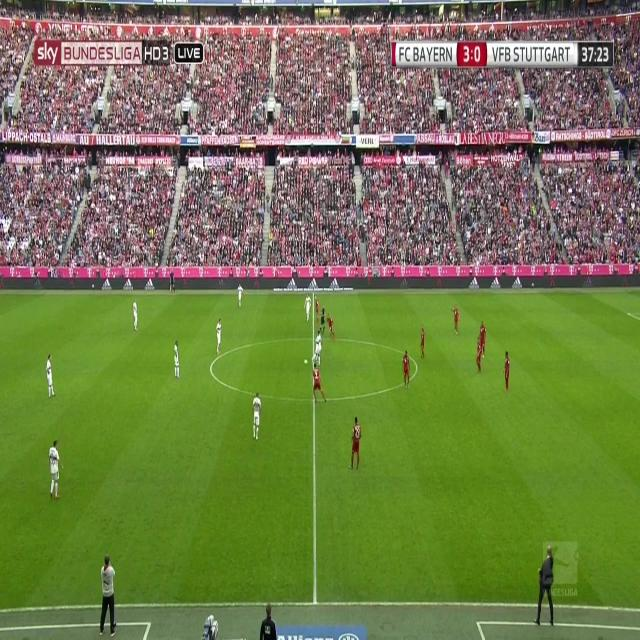Ball: (302, 356, 308, 369)
Player: (47, 434, 64, 508), (347, 414, 363, 474), (251, 390, 265, 444), (312, 362, 328, 407), (45, 354, 55, 402), (400, 349, 412, 389), (172, 338, 182, 383), (312, 328, 323, 368), (503, 348, 512, 393), (478, 320, 488, 360), (130, 296, 140, 334), (215, 318, 223, 357), (474, 338, 482, 377), (451, 305, 460, 338), (418, 322, 426, 359), (305, 290, 313, 325), (237, 281, 246, 311), (313, 293, 321, 326), (327, 313, 335, 340)
Referee: (168, 268, 176, 298), (318, 304, 326, 332)
